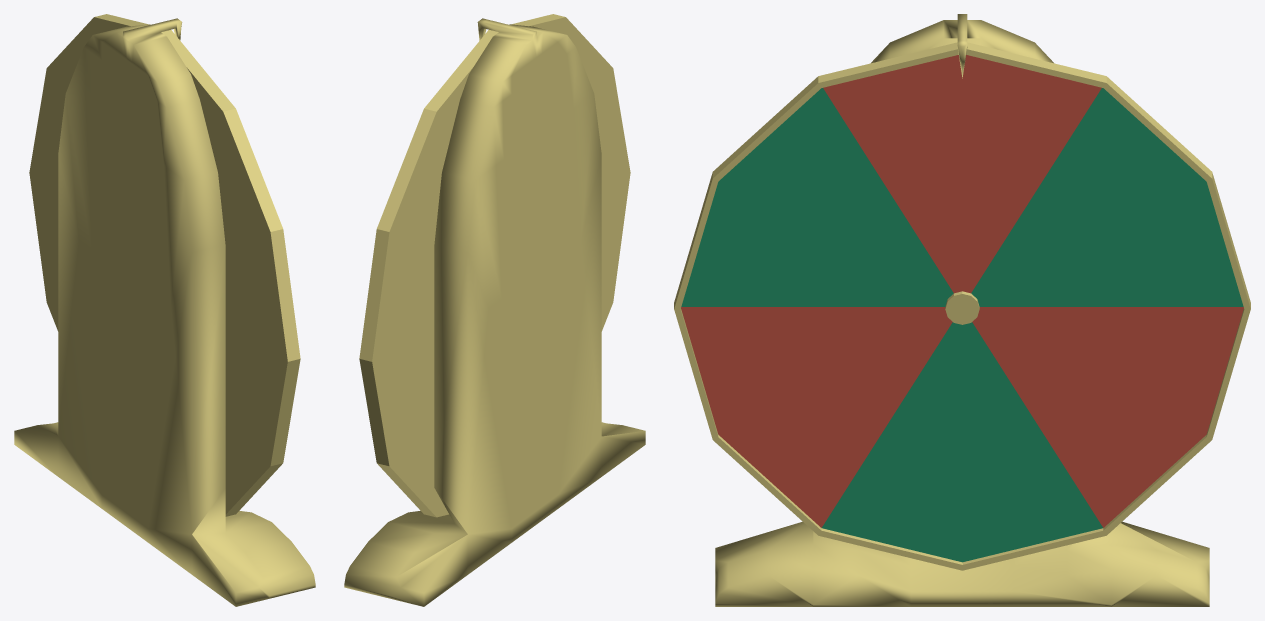
The model's file is Spin Wheel 50-50 (1).fbx.
3 renders of one model, left to right at view 1: azimuth 30°, elevation 25°; view 2: azimuth 150°, elevation 25°; view 3: azimuth 270°, elevation 25°, orthographic. The views are drawn at different scales.
Parts seen in each view (by area): view 1: Cube, Cylinder; view 2: Cube, Cylinder; view 3: Cylinder, Cube.
Part boxes in pixels (x1,y1,x2,y2): Cube: [14, 18, 315, 606]; Cylinder: [29, 14, 300, 516]; Cube: [344, 18, 645, 606]; Cylinder: [359, 14, 630, 517]; Cylinder: [674, 42, 1250, 570]; Cube: [715, 14, 1209, 606].
Size of the model in its own units: 200 by 1180 by 1123.
1 material, 1 textured.
